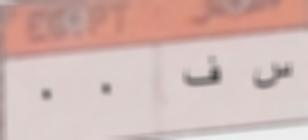0: (36, 78, 69, 111), (95, 73, 126, 103)
faa: (183, 49, 226, 93)
seen: (250, 55, 299, 95)
